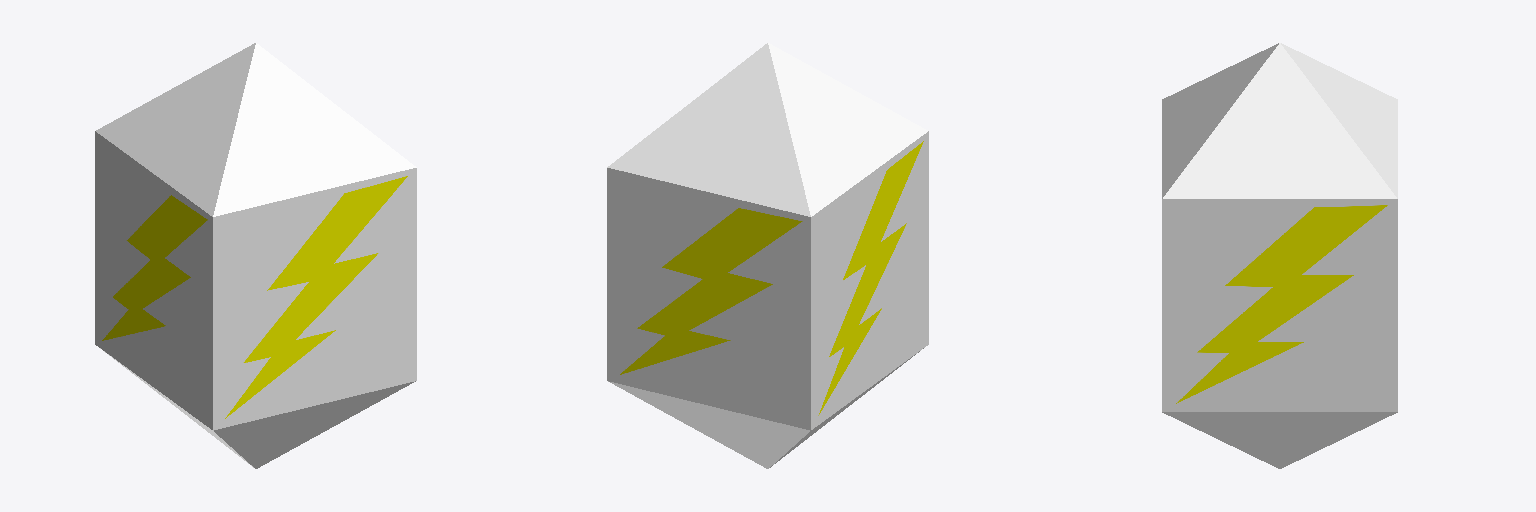
The picture shows the model from 3 angles: view 1: azimuth 30°, elevation 25°; view 2: azimuth 150°, elevation 25°; view 3: azimuth 270°, elevation 25°; orthographic projection.
Visible parts, largest first — view 1: Box001, Pyramid001, Pyramid002; view 2: Box001, Pyramid001, Pyramid002; view 3: Box001, Pyramid001, Pyramid002.
Part boxes in pixels (x1,y1,x2,y2): Box001: (95, 131, 416, 430); Pyramid001: (96, 43, 416, 216); Pyramid002: (100, 348, 415, 468); Box001: (607, 131, 928, 430); Pyramid001: (607, 43, 927, 216); Pyramid002: (608, 348, 923, 468); Box001: (1162, 199, 1397, 411); Pyramid001: (1162, 43, 1397, 198); Pyramid002: (1162, 412, 1397, 468).
Bounding box in the file's own units: 20 × 40 × 20.
2 materials, 2 textured.